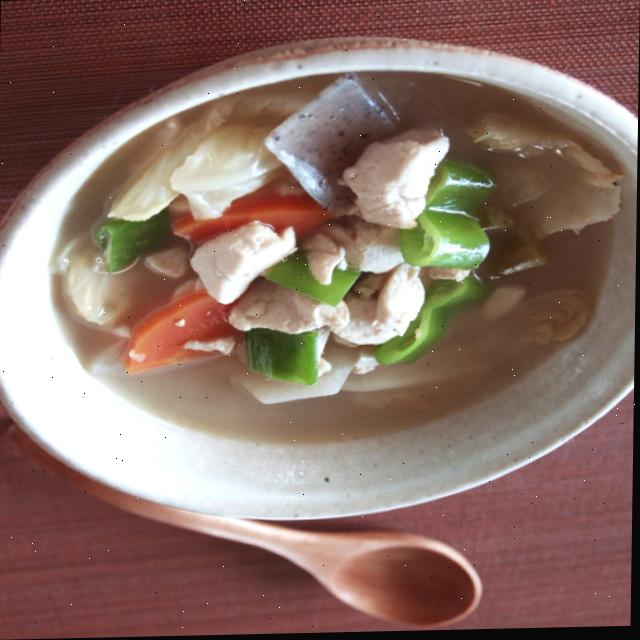蔬菜料理: (0, 20, 639, 544)
